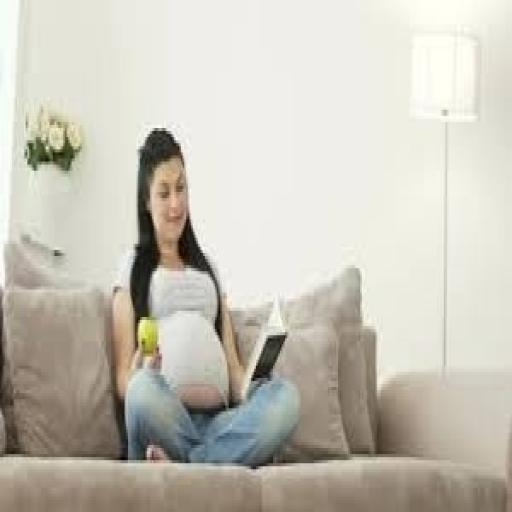sitting: (111, 122, 302, 466)
